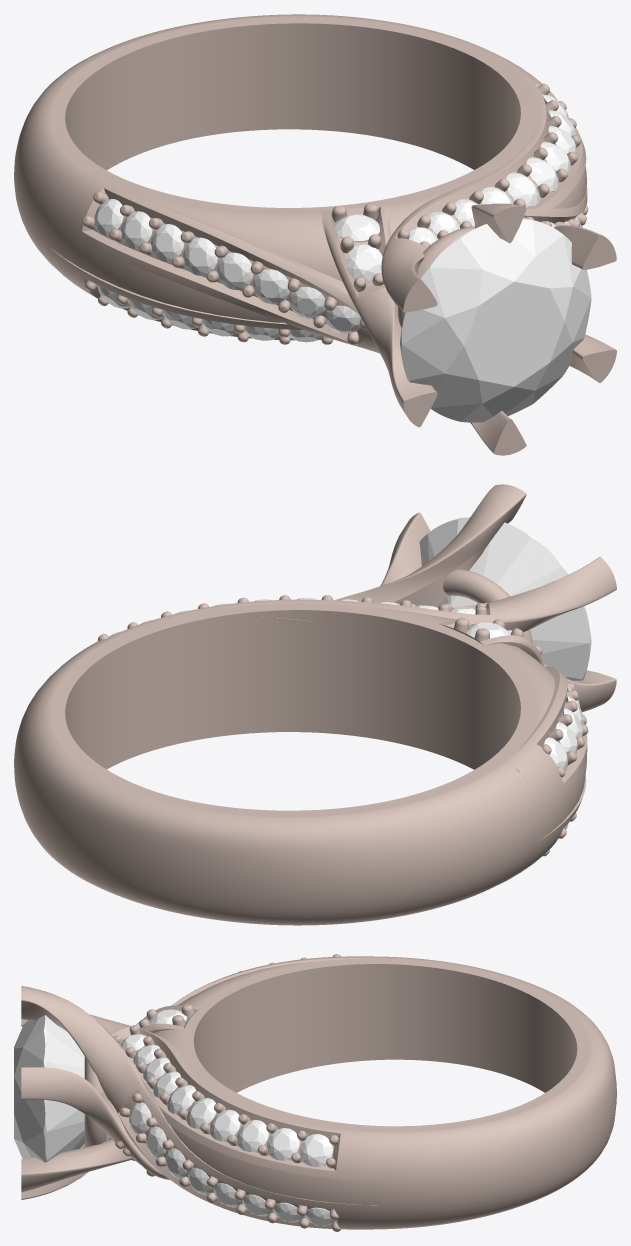
File: ring.glb
3 renders of one model, top to bottom at view 1: azimuth 30°, elevation 25°; view 2: azimuth 150°, elevation 25°; view 3: azimuth 270°, elevation 25°, orthographic. The views are drawn at different scales.
Parts seen in each view (by area): view 1: _41, Diamond_Round_38, Diamond_Round_39, Diamond_Round_3, Diamond_Round_4, Diamond_Round_2, Diamond_Round_5, Diamond_Round_40, Diamond_Round_1, Diamond_Round_6, Diamond_Round_7, Diamond_Round_0 (+2 smaller); view 2: _41, Diamond_Round_38; view 3: _41, Diamond_Round_38, Diamond_Round_33, Diamond_Round_34, Diamond_Round_28, Diamond_Round_36, Diamond_Round_30, Diamond_Round_32, Diamond_Round_24, Diamond_Round_25, Diamond_Round_26, Diamond_Round_27 (+5 smaller).
Part boxes in pixels (left/top/right/bottom): _41: left=14, top=14, right=616, bottom=455; Diamond_Round_38: left=400, top=218, right=591, bottom=422; Diamond_Round_39: left=345, top=244, right=382, bottom=281; Diamond_Round_3: left=217, top=252, right=253, bottom=289; Diamond_Round_4: left=183, top=237, right=217, bottom=275; Diamond_Round_2: left=253, top=269, right=289, bottom=304; Diamond_Round_5: left=151, top=224, right=184, bottom=261; Diamond_Round_40: left=334, top=214, right=379, bottom=242; Diamond_Round_1: left=289, top=287, right=325, bottom=318; Diamond_Round_6: left=121, top=211, right=152, bottom=248; Diamond_Round_7: left=94, top=199, right=123, bottom=235; Diamond_Round_0: left=324, top=305, right=360, bottom=333; _41: left=14, top=484, right=616, bottom=925; Diamond_Round_38: left=419, top=517, right=591, bottom=680; _41: left=21, top=954, right=616, bottom=1231; Diamond_Round_38: left=14, top=1015, right=84, bottom=1162; Diamond_Round_33: left=299, top=1134, right=332, bottom=1166; Diamond_Round_34: left=267, top=1128, right=299, bottom=1160; Diamond_Round_28: left=237, top=1120, right=268, bottom=1151; Diamond_Round_36: left=210, top=1109, right=240, bottom=1141; Diamond_Round_30: left=186, top=1098, right=216, bottom=1128; Diamond_Round_32: left=167, top=1085, right=196, bottom=1113; Diamond_Round_24: left=128, top=1102, right=151, bottom=1133; Diamond_Round_25: left=146, top=1126, right=166, bottom=1157; Diamond_Round_26: left=165, top=1148, right=187, bottom=1178; Diamond_Round_27: left=187, top=1167, right=212, bottom=1195.
Size of the model in its own units: 21.73 by 10.46 by 27.51.
